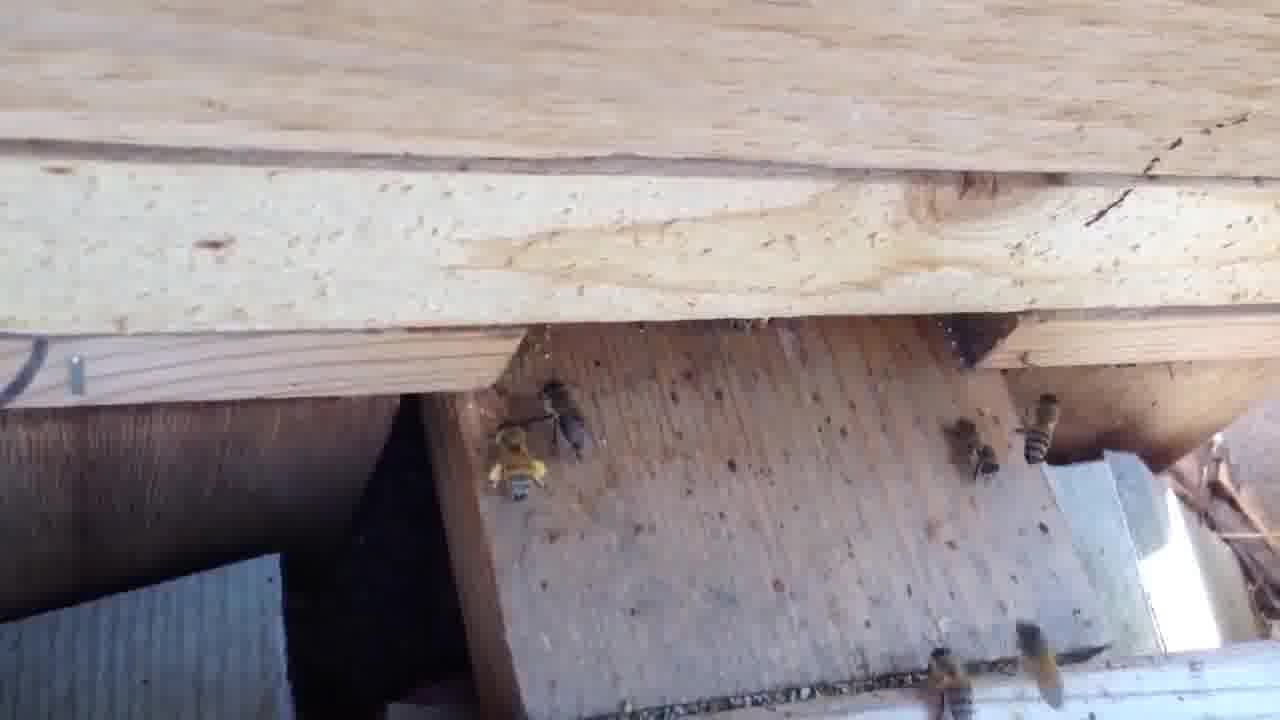pollen: (475, 417, 550, 498)
